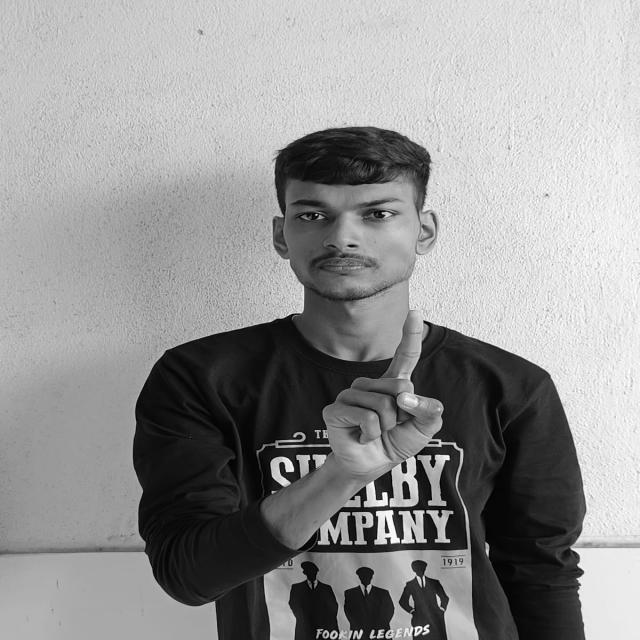Question: (324, 307, 454, 480)
